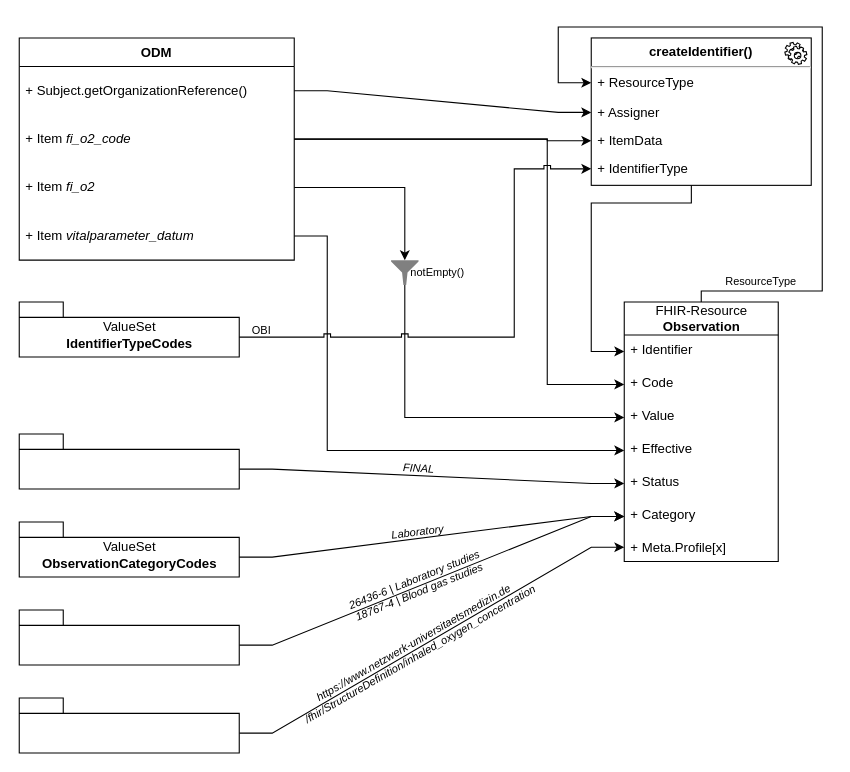
The diagram is 850 pixels wide and 772 high, and some of its shapes have lost their labels. The shapes that lost their labels are listed below. From the top down, each one's centre as x and y in pixels, then its label:
pixel 128 461: ValueSet ObservationStatus
pixel 128 637: Codesystem LOINC
pixel 128 725: GECCO Profiles
